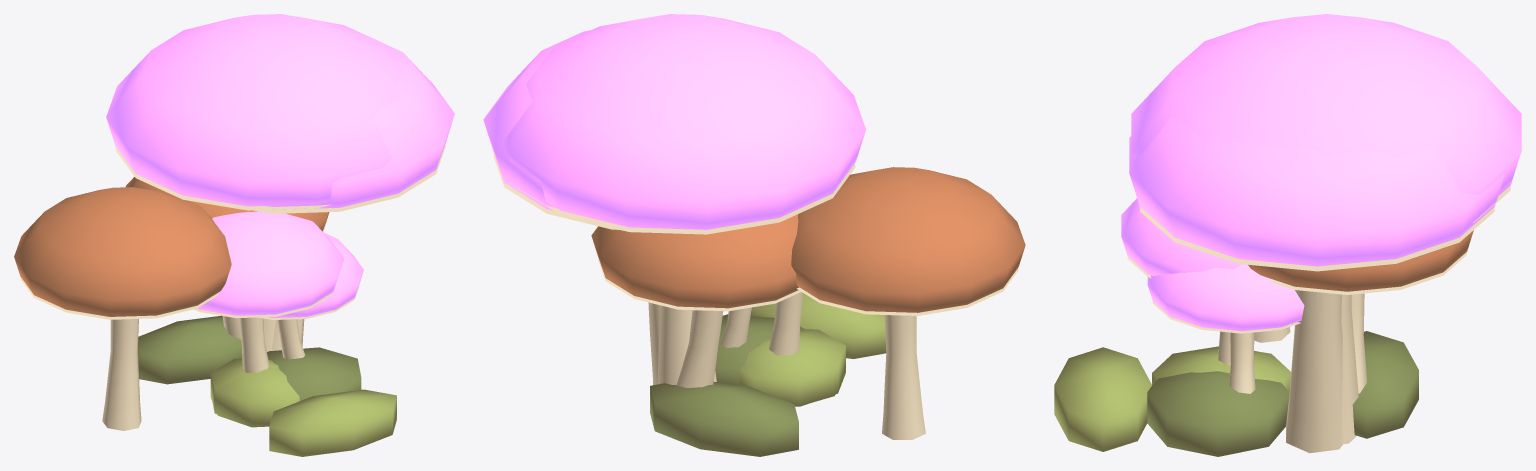
Rendered from prop_tc_nam_phat_sang_2.23df35cc6e.glb.
3 renders of one model, left to right at view 1: azimuth 30°, elevation 25°; view 2: azimuth 150°, elevation 25°; view 3: azimuth 270°, elevation 25°, orthographic. The views are drawn at different scales.
Visible parts, largest first — view 1: prop_tc_nam_phat_sang_2; view 2: prop_tc_nam_phat_sang_2; view 3: prop_tc_nam_phat_sang_2.
Part boxes in pixels (<box>): prop_tc_nam_phat_sang_2: <box>14,14,454,456</box>; prop_tc_nam_phat_sang_2: <box>483,14,1025,456</box>; prop_tc_nam_phat_sang_2: <box>1054,14,1521,456</box>.
Size of what is drawn, in the model's own units: 1.27 by 0.9696 by 0.9999.
